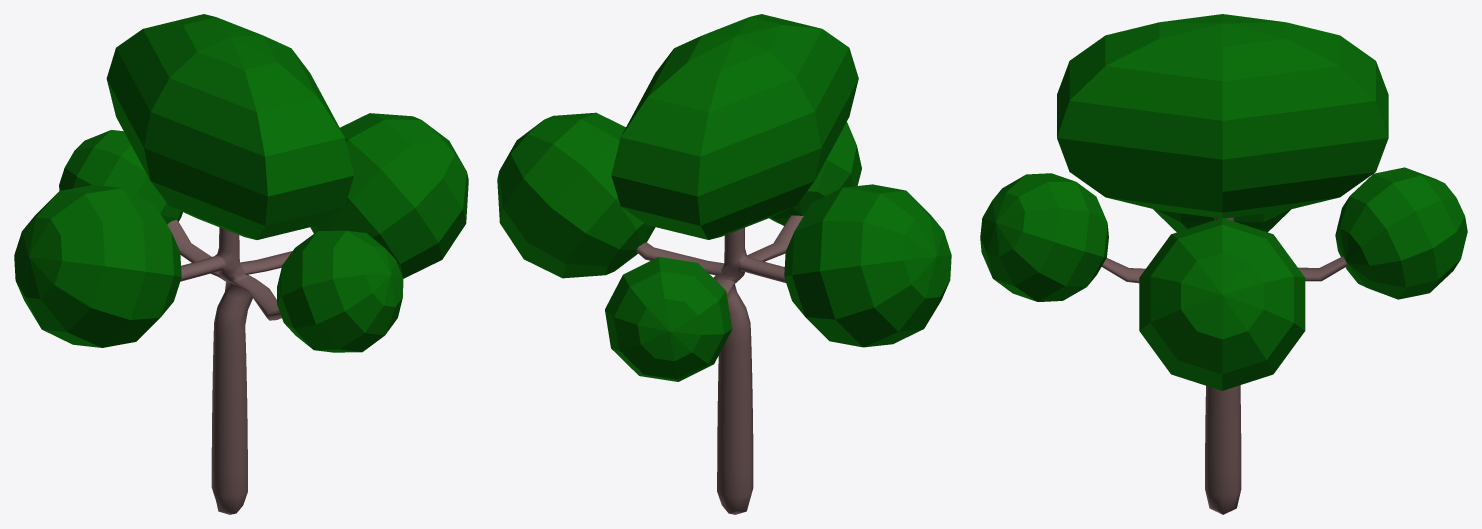
The model's file is Tree 2.fbx.
3 views of the same model, side by side, from view 1: azimuth 30°, elevation 25°; view 2: azimuth 150°, elevation 25°; view 3: azimuth 270°, elevation 25° (orthographic). The views are drawn at different scales.
Parts seen in each view (by area): view 1: pSphere1, pSphere2, pSphere3, pSphere4, pCube1, pSphere5; view 2: pSphere1, pSphere2, pSphere3, pSphere5, pCube1, pSphere4; view 3: pSphere1, pSphere3, pSphere5, pSphere4, pCube1, pSphere2.
Boxes of the visible parts, x1=… form: pSphere1: x1=106, y1=14, x2=354, y2=239; pSphere2: x1=14, y1=185, x2=181, y2=347; pSphere3: x1=310, y1=113, x2=468, y2=278; pSphere4: x1=277, y1=230, x2=403, y2=352; pCube1: x1=167, y1=219, x2=292, y2=514; pSphere5: x1=59, y1=130, x2=182, y2=224; pSphere1: x1=611, y1=14, x2=858, y2=239; pSphere2: x1=784, y1=184, x2=951, y2=347; pSphere3: x1=497, y1=112, x2=655, y2=278; pSphere5: x1=605, y1=257, x2=732, y2=381; pCube1: x1=636, y1=215, x2=803, y2=514; pSphere4: x1=769, y1=122, x2=861, y2=225; pSphere1: x1=1057, y1=14, x2=1388, y2=218; pSphere3: x1=1139, y1=217, x2=1305, y2=390; pSphere5: x1=1335, y1=167, x2=1467, y2=299; pSphere4: x1=980, y1=173, x2=1108, y2=301; pCube1: x1=1101, y1=217, x2=1347, y2=514; pSphere2: x1=1153, y1=209, x2=1290, y2=232.
Bounding box in the file's own units: 26.49 × 27.87 × 25.05.
